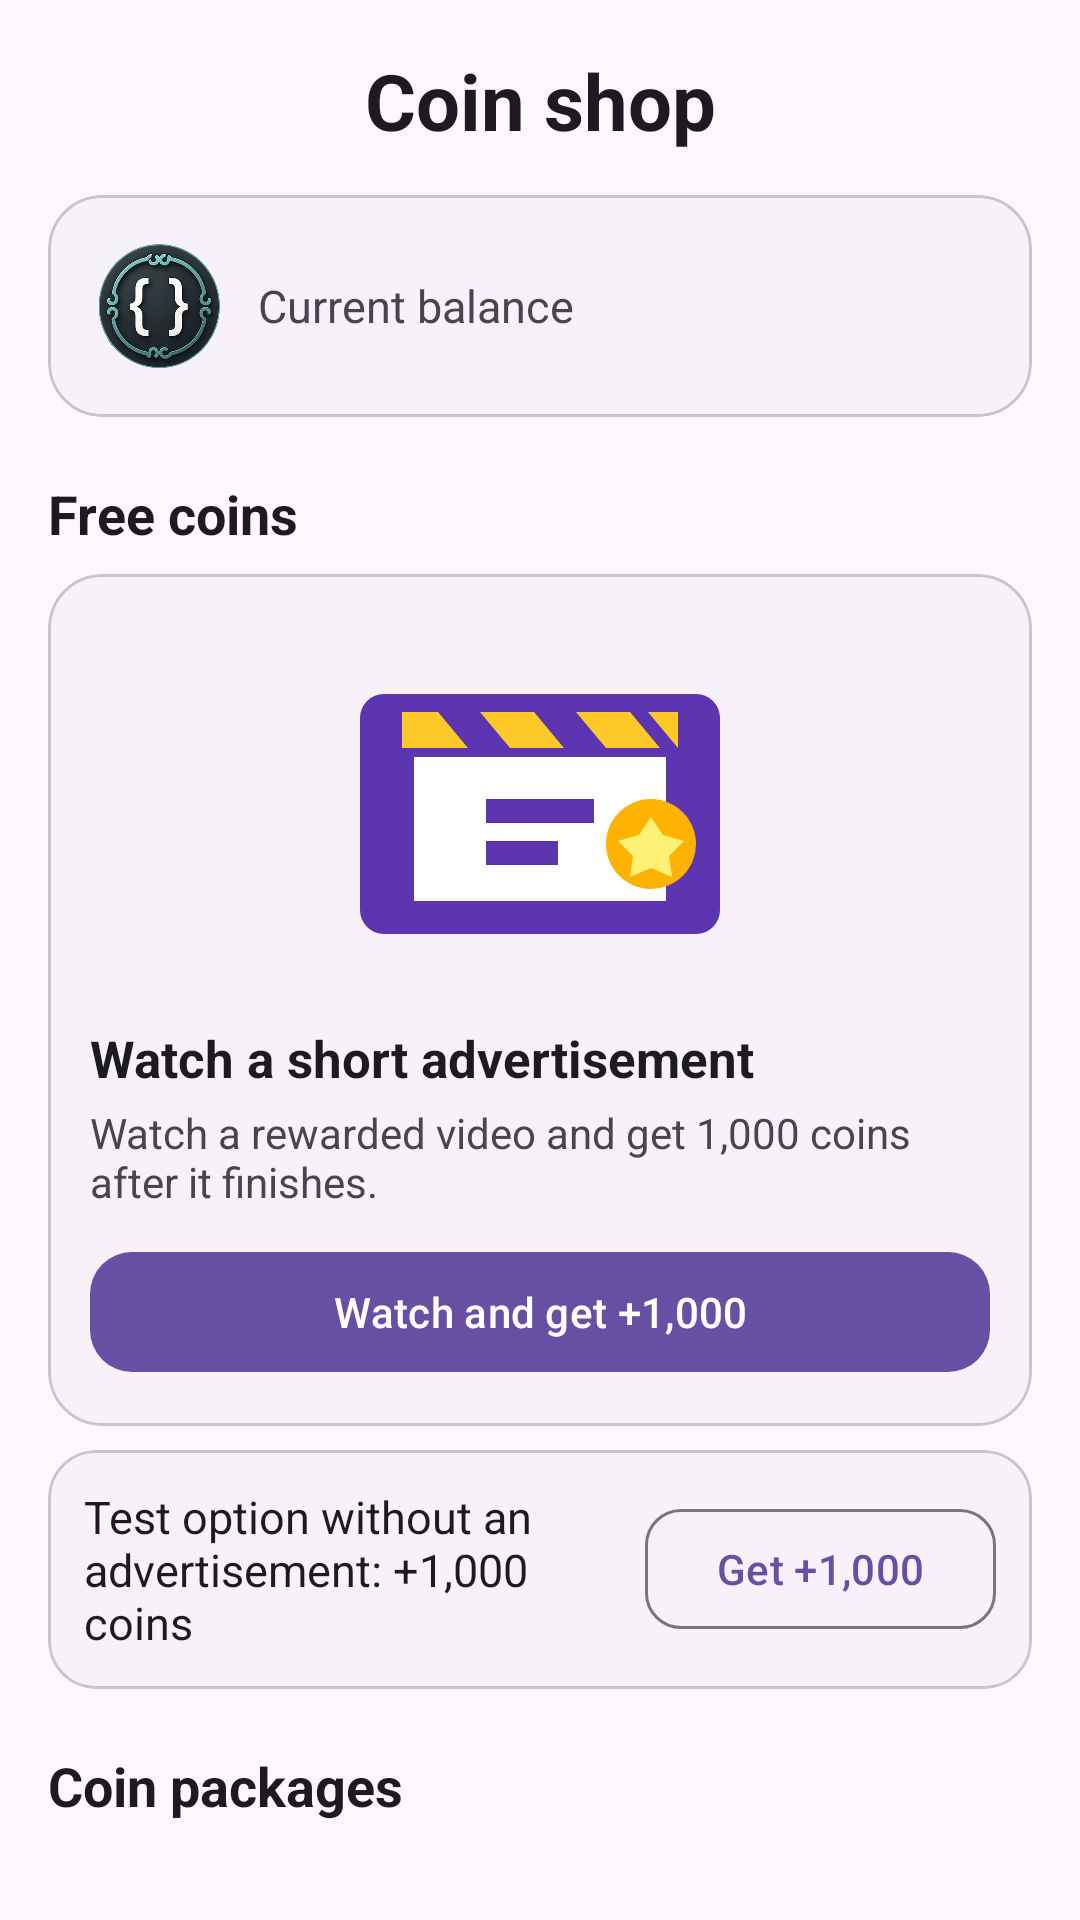

Screen size 1080px x 1920px. Icon name, then its box in pixels as (x1, y1, x2, y2):
Game currency: (99, 244, 220, 368)
Rewarded advertisement: (360, 694, 720, 934)
